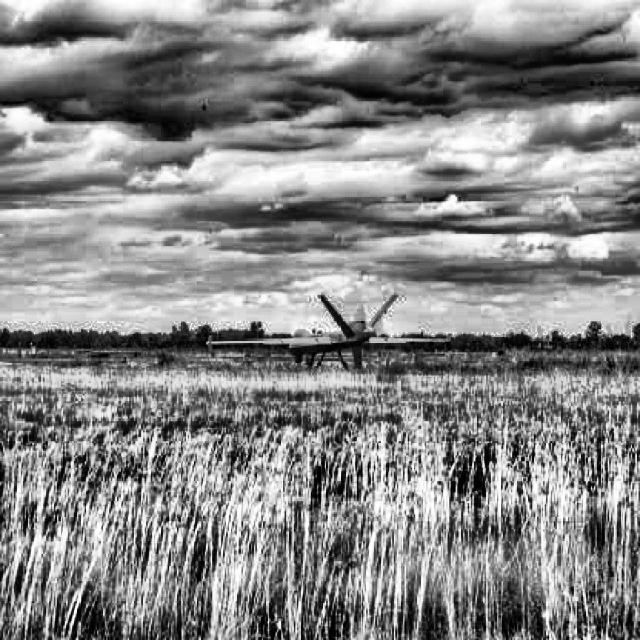MQ9: (206, 294, 452, 372)
